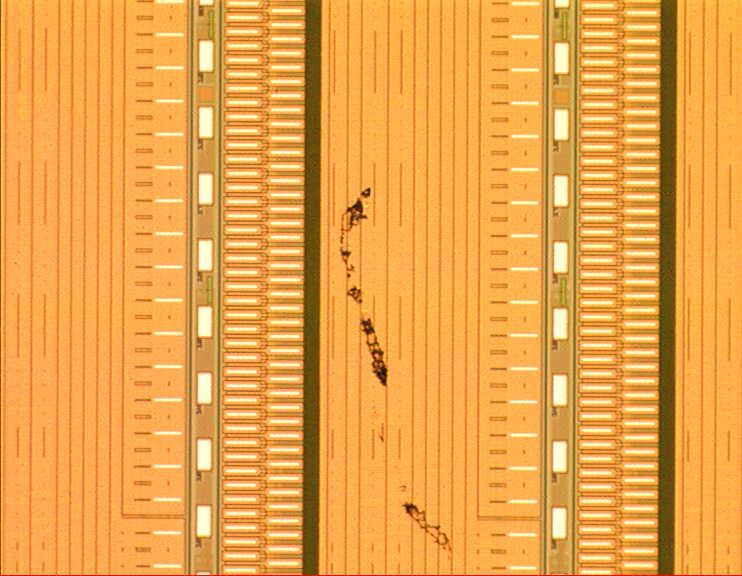SCRATCH: (331, 184, 465, 561)
